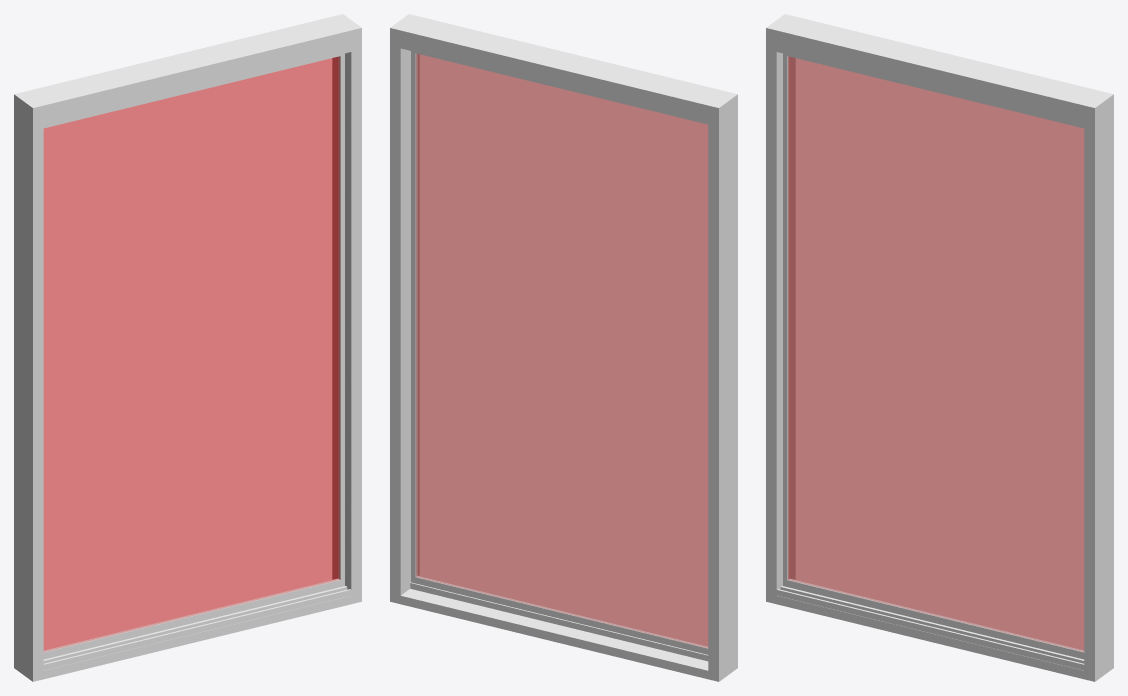
File: Glass wall 250cm.FBX
3 views of the same model, side by side, from view 1: azimuth 30°, elevation 25°; view 2: azimuth 150°, elevation 25°; view 3: azimuth 330°, elevation 25° (orthographic).
Visible parts, largest first — view 1: Glass wall 250 cm; view 2: Glass wall 250 cm; view 3: Glass wall 250 cm.
Part boxes in pixels (left/top/right/bottom): Glass wall 250 cm: left=14, top=14, right=361, bottom=681; Glass wall 250 cm: left=390, top=14, right=737, bottom=681; Glass wall 250 cm: left=766, top=14, right=1113, bottom=681.
Size of the model in its own units: 1.5 by 2.5 by 0.15.
